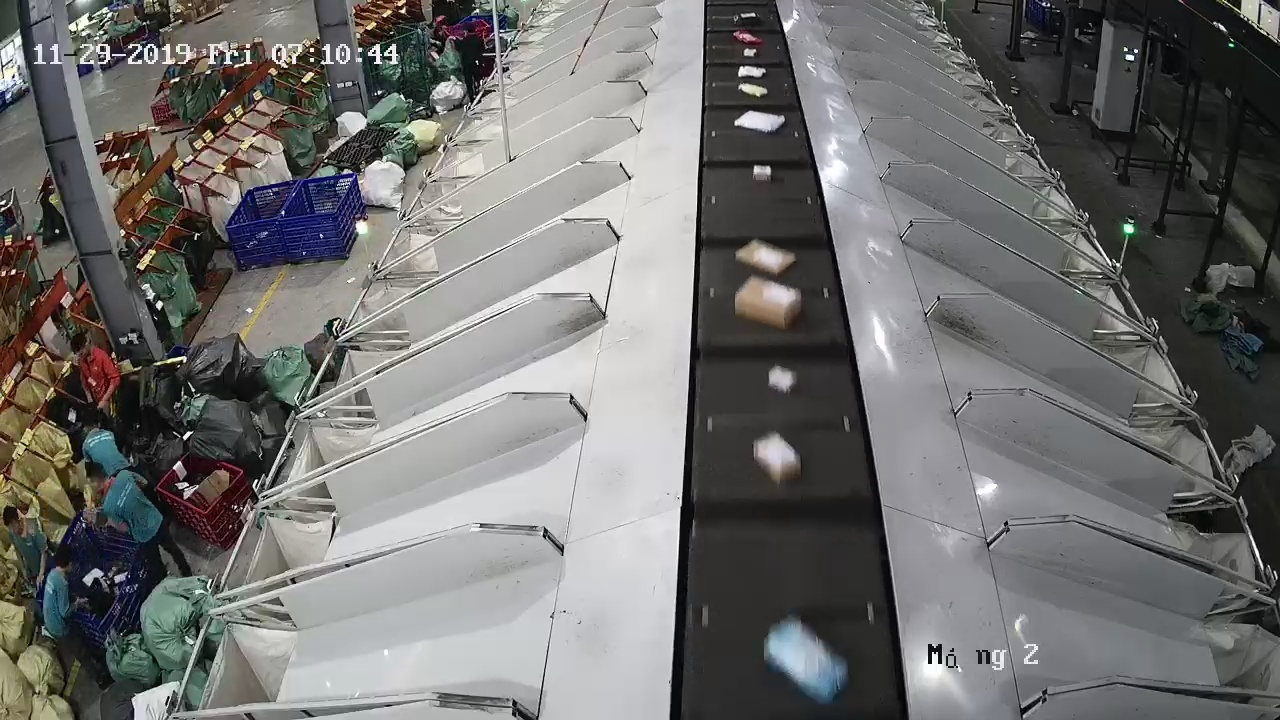parcel: (763, 615, 850, 706), (734, 276, 803, 330), (754, 435, 802, 485), (735, 240, 796, 276), (733, 109, 786, 134), (768, 366, 796, 394), (753, 164, 772, 183)
